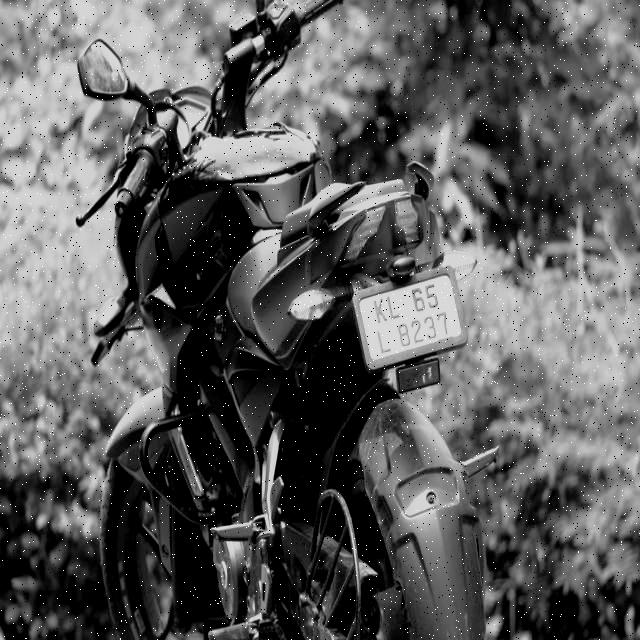Bike: (62, 0, 515, 640)
